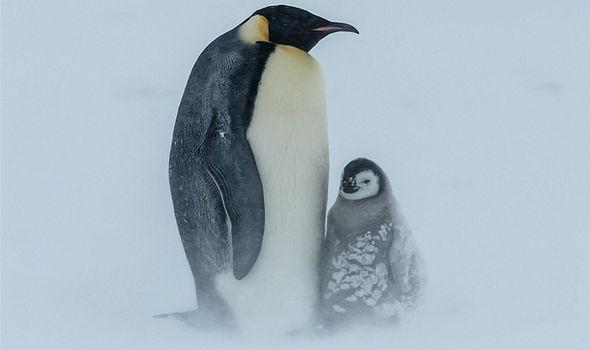emporer: (160, 1, 358, 350)
